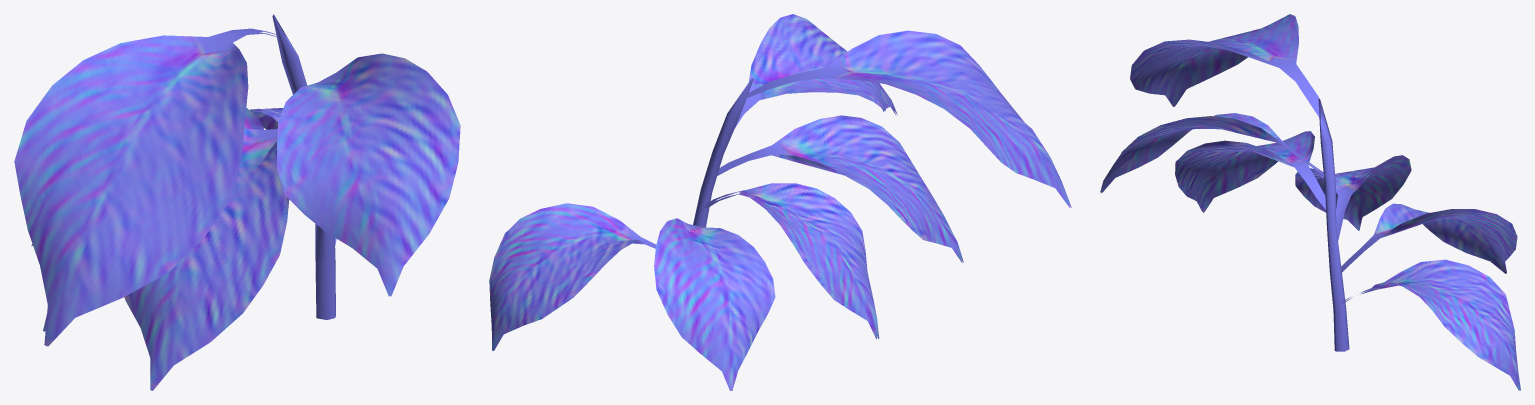
The model's file is Plants3.fbx.
3 renders of one model, left to right at view 1: azimuth 30°, elevation 25°; view 2: azimuth 150°, elevation 25°; view 3: azimuth 270°, elevation 25°, orthographic. The views are drawn at different scales.
Parts seen in each view (by area): view 1: Plants3; view 2: Plants3; view 3: Plants3.
Boxes of the visible parts, x1=… form: Plants3: x1=14, y1=14, x2=460, y2=390; Plants3: x1=489, y1=14, x2=1071, y2=390; Plants3: x1=1100, y1=14, x2=1520, y2=390.
Bounding box in the file's own units: 36.34 × 21.42 × 32.77.
1 material, 1 textured.
